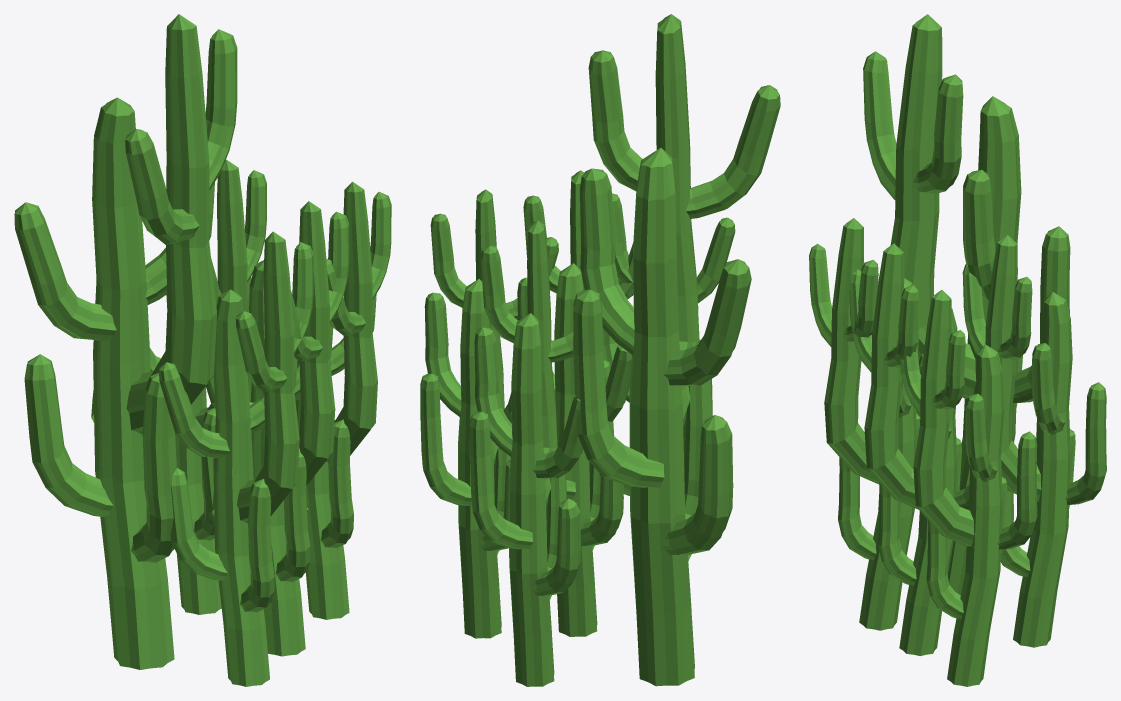
The model's file is Cactus.glb.
The picture shows the model from 3 angles, left to right: view 1: azimuth 30°, elevation 25°; view 2: azimuth 150°, elevation 25°; view 3: azimuth 270°, elevation 25°; orthographic projection. The views are drawn at different scales.
Visible parts, largest first — view 1: cactus_001.003; view 2: cactus_001.003; view 3: cactus_001.003.
Boxes of the visible parts, x1,y1,x2,y2 form: cactus_001.003: [14, 14, 391, 686]; cactus_001.003: [420, 14, 780, 686]; cactus_001.003: [809, 14, 1106, 686].
Bounding box in the file's own units: 2.62 × 4.71 × 2.15.
1 material, 1 textured.
